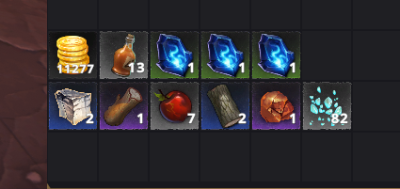ash log: (203, 82, 248, 129)
copper ore: (253, 82, 299, 129)
ethereal dust: (304, 82, 350, 129)
gold: (47, 29, 98, 79)
limestone stone: (49, 81, 96, 130)
spruce log: (101, 82, 146, 129)
